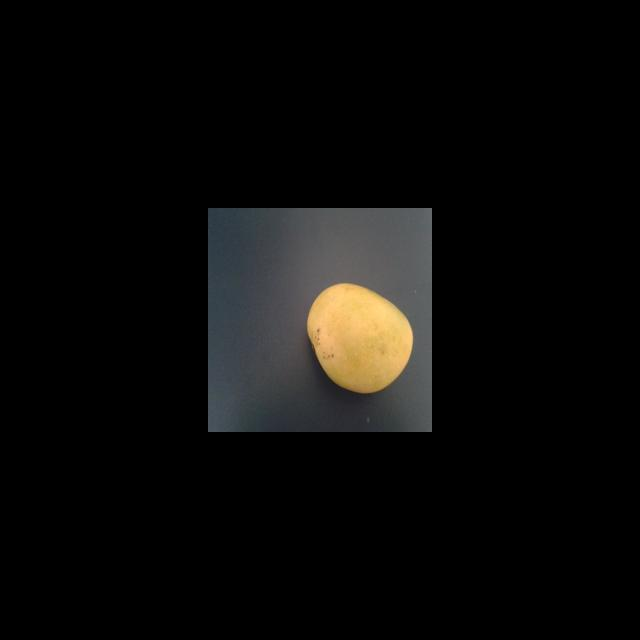Mango: (306, 282, 413, 394)
